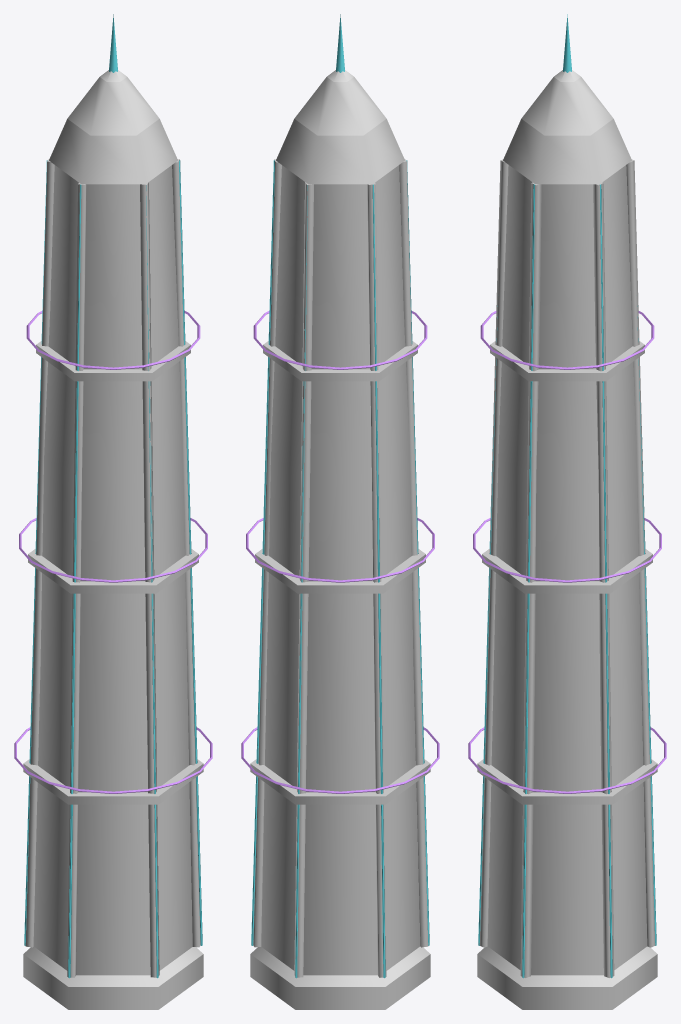
The model's file is NeonSpire.glb.
3 views of the same model, side by side, from view 1: azimuth 30°, elevation 25°; view 2: azimuth 150°, elevation 25°; view 3: azimuth 270°, elevation 25° (orthographic).
Parts seen in each view (by area): view 1: Body, Glow, Accent; view 2: Body, Glow, Accent; view 3: Body, Glow, Accent.
Boxes of the visible parts, left/top/right/bottom form: Body: left=23, top=70, right=203, bottom=1009; Glow: left=24, top=14, right=202, bottom=978; Accent: left=14, top=311, right=212, bottom=793; Body: left=250, top=70, right=430, bottom=1009; Glow: left=251, top=14, right=429, bottom=978; Accent: left=241, top=311, right=439, bottom=793; Body: left=477, top=70, right=657, bottom=1009; Glow: left=478, top=14, right=656, bottom=978; Accent: left=468, top=311, right=666, bottom=793.
Bounding box in the file's own units: 17.44 × 92 × 17.18.
